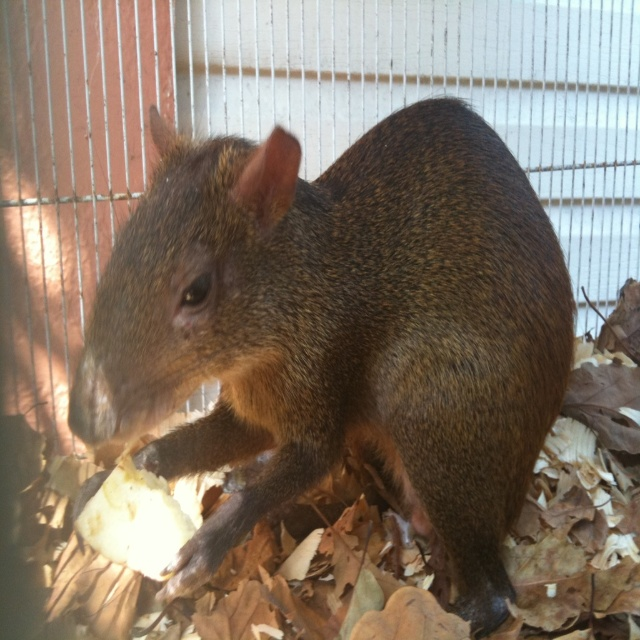Mouse: (66, 87, 579, 639)
